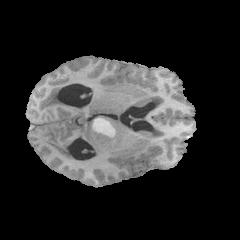glioma: (86, 115, 121, 149)
